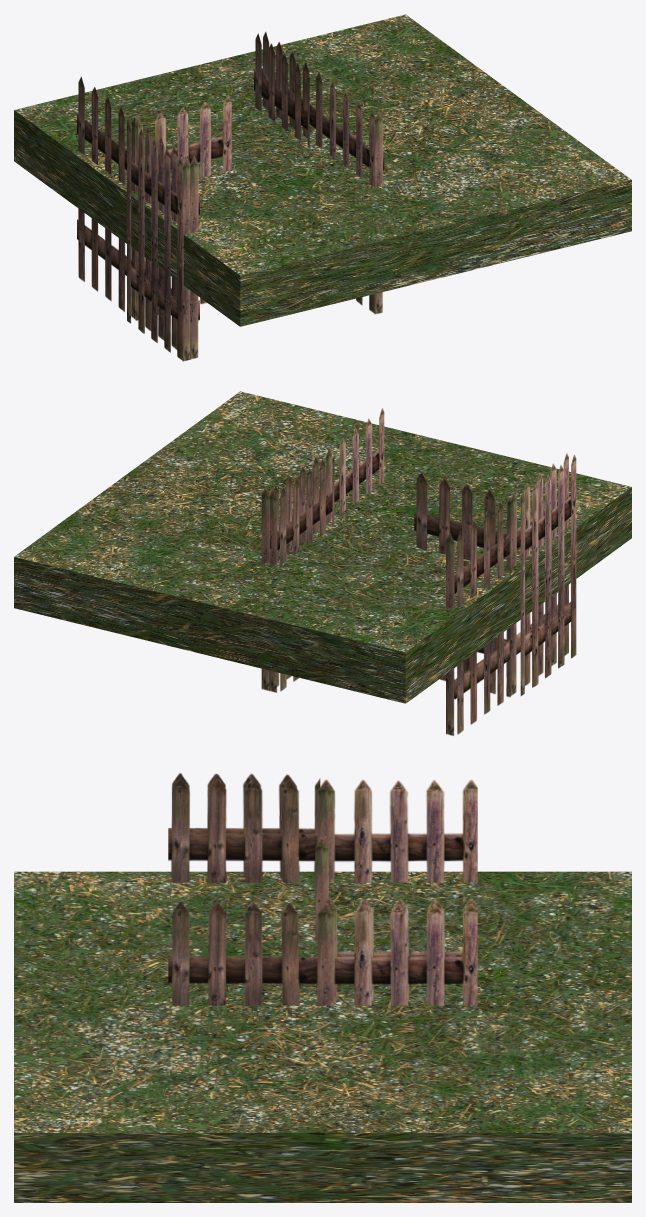
The model's file is paredes_externo.glb.
3 renders of one model, top to bottom at view 1: azimuth 30°, elevation 25°; view 2: azimuth 150°, elevation 25°; view 3: azimuth 270°, elevation 25°, orthographic. The views are drawn at different scales.
Visible parts, largest first — view 1: Cube.001, Cube.004, Cube.005, Cube.002, Cube.010, Cube.006; view 2: Cube.001, Cube.004, Cube.005, Cube.002, Cube.010, Cube.006; view 3: Cube.001, Cube.002, Cube.004, Cube.005, Cube.006, Cube.010.
Part boxes in pixels (bbox=[...]): Cube.001: bbox=[14, 14, 631, 326]; Cube.004: bbox=[77, 77, 199, 359]; Cube.005: bbox=[127, 119, 192, 361]; Cube.002: bbox=[261, 31, 384, 314]; Cube.010: bbox=[127, 96, 231, 360]; Cube.006: bbox=[254, 33, 309, 146]; Cube.001: bbox=[14, 391, 631, 703]; Cube.004: bbox=[446, 453, 568, 735]; Cube.005: bbox=[520, 455, 576, 695]; Cube.002: bbox=[261, 408, 384, 690]; Cube.010: bbox=[414, 455, 575, 697]; Cube.006: bbox=[269, 454, 334, 692]; Cube.001: bbox=[14, 871, 631, 1202]; Cube.002: bbox=[168, 901, 477, 1005]; Cube.004: bbox=[168, 778, 477, 882]; Cube.005: bbox=[168, 773, 320, 877]; Cube.006: bbox=[325, 897, 477, 1000]; Cube.010: bbox=[169, 773, 330, 939].
Bounding box in the file's own units: 4.01 × 2 × 4.
3 materials, 3 textured.
